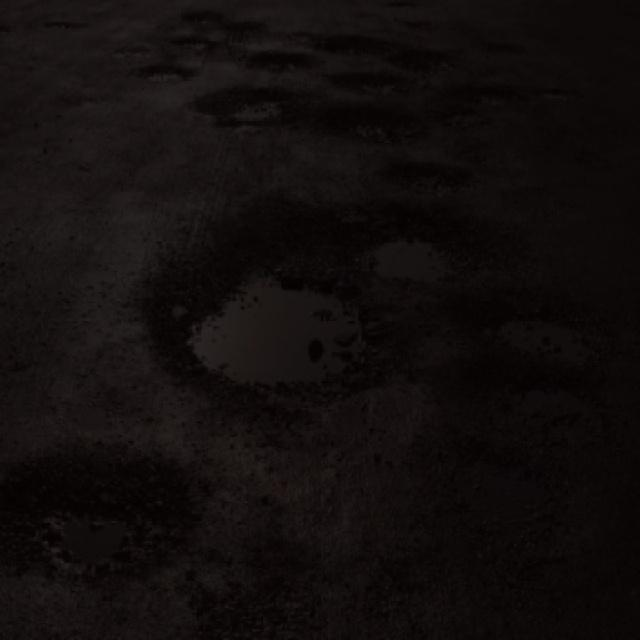Pothole: (147, 232, 380, 413), (0, 438, 200, 566), (483, 295, 618, 460), (359, 216, 492, 293), (317, 22, 457, 73), (307, 96, 424, 154), (200, 83, 298, 129), (246, 46, 318, 74), (139, 59, 197, 93), (429, 100, 483, 132), (348, 72, 392, 105), (164, 28, 214, 52), (460, 86, 520, 106)
